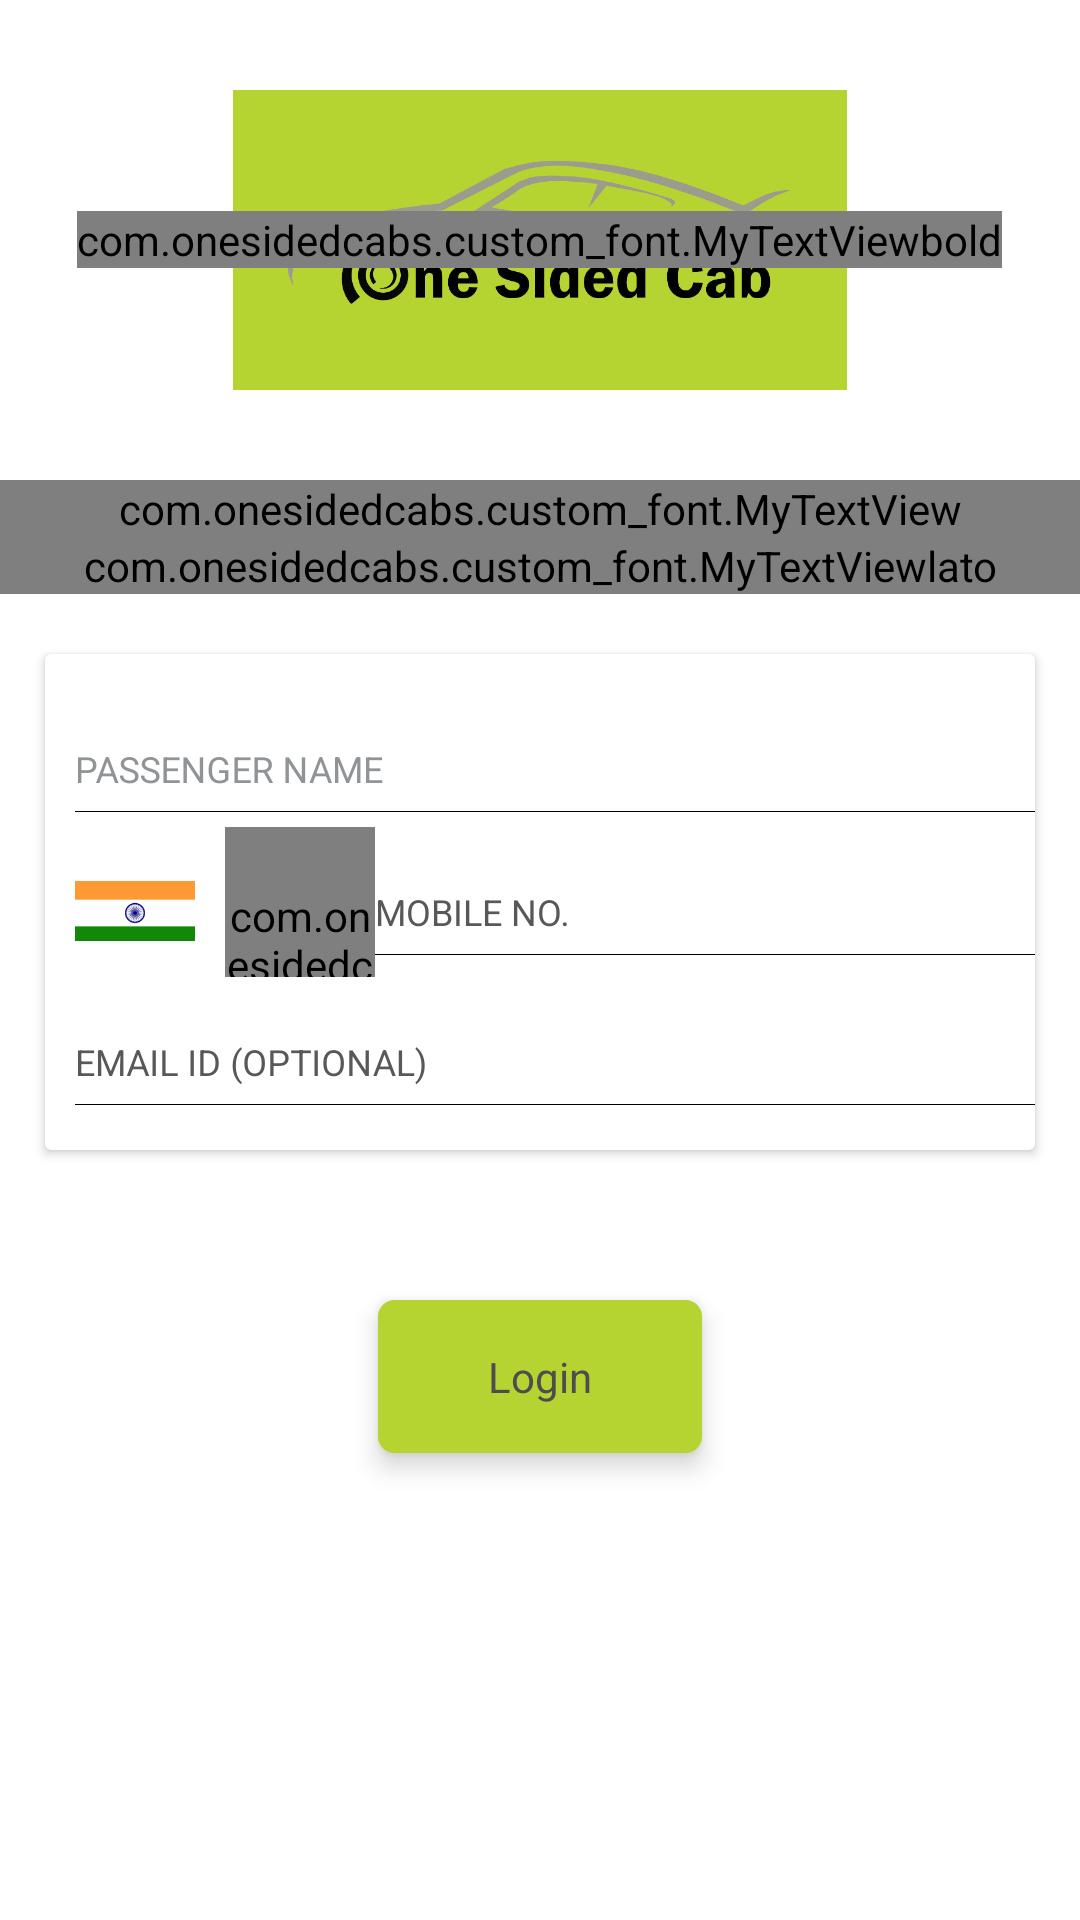

Where to tap for icons on this 1080*1920 app screen, as [x,y]:
flag: [135,911]
